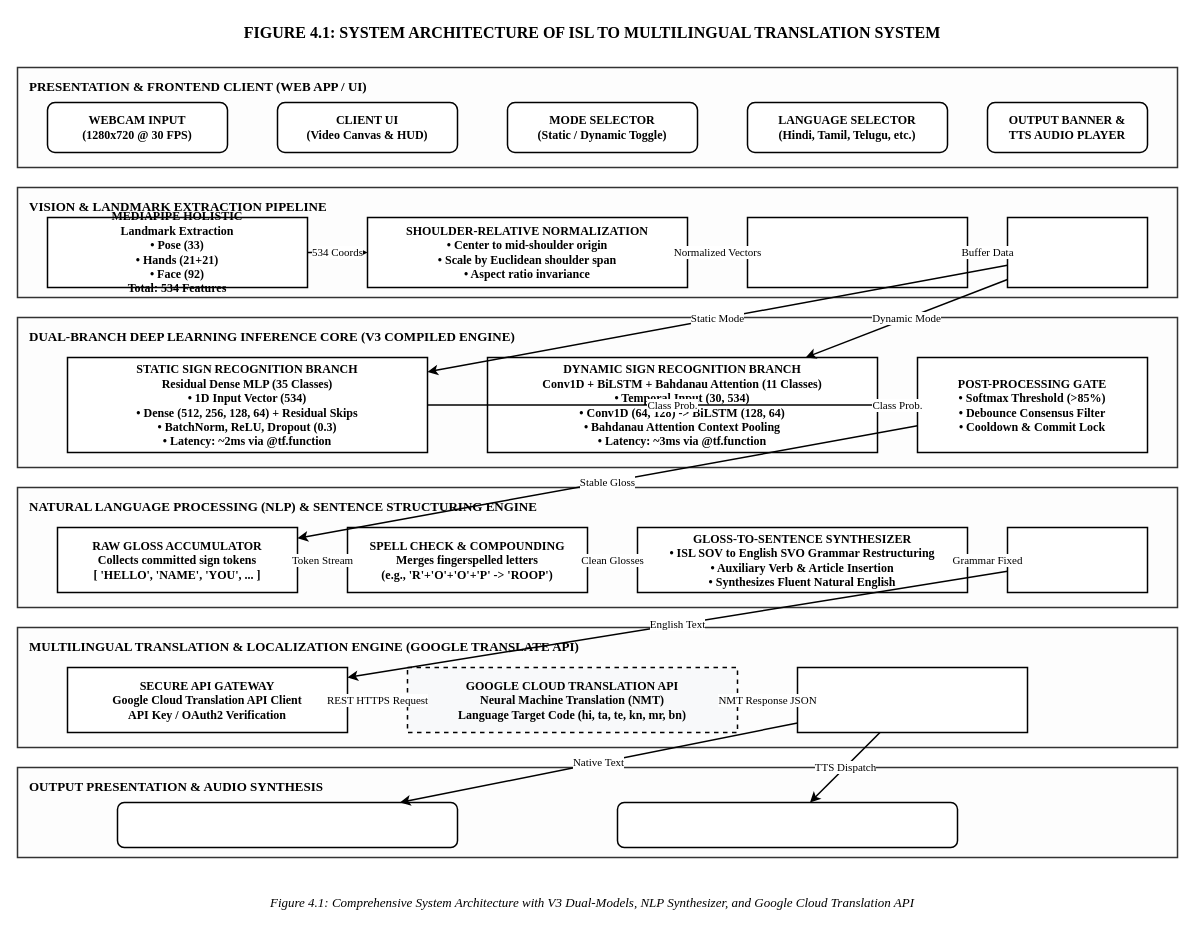
This 1196x934 diagram has some shape labels left out. Each missing label, with the centre of its shape:
MODE ROUTER Active Branch Switch: pixel 1077 252
MULTILINGUAL TEXT DISPLAY Real-time Subtitle / Banner Overlay: pixel 287 824
RESPONSE PARSER & LOCALIZATION BUFFER Caches output in selected language: pixel 912 699
SYNTHESIZED ENGLISH "Hello, what is your name?": pixel 1077 559
TEMPORAL SLIDING BUFFER 30-Frame FIFO Queue Shape: (30, 534) Matrix: pixel 857 252
TEXT-TO-SPEECH (TTS) SYNTHESIZER Native Regional Audio Output: pixel 787 824
